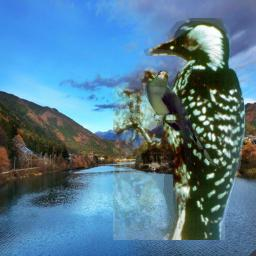Cuckoo: (145, 70, 220, 167)
Woodpecker: (113, 18, 245, 240)
